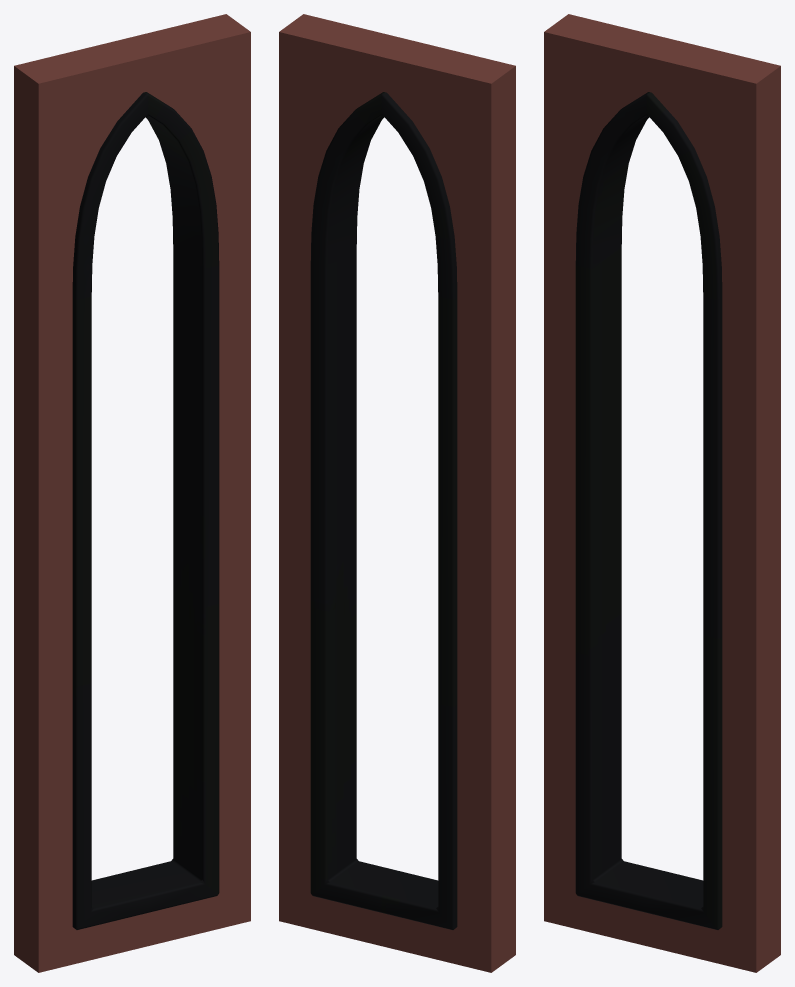
Rendered from SM_ArchSmall.glb.
3 views of the same model, side by side, from view 1: azimuth 30°, elevation 25°; view 2: azimuth 150°, elevation 25°; view 3: azimuth 330°, elevation 25° (orthographic).
Visible parts, largest first — view 1: SM_ArchSmall; view 2: SM_ArchSmall; view 3: SM_ArchSmall.
Boxes of the visible parts, left/top/right/bottom form: SM_ArchSmall: left=14, top=14, right=250, bottom=972; SM_ArchSmall: left=279, top=14, right=515, bottom=972; SM_ArchSmall: left=544, top=14, right=780, bottom=972.
Size of the model in its own units: 1 by 4 by 0.2566.
Materials: 2 (1 with a texture image).
